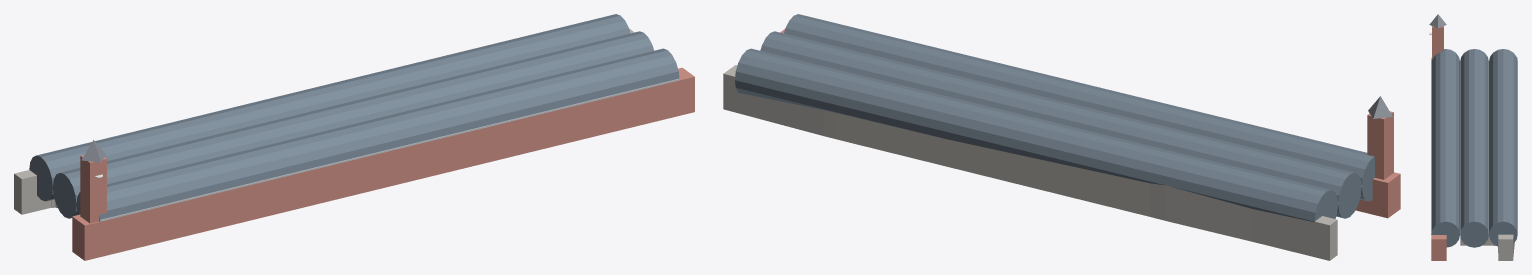
File: basel-badischer-bahnhof.glb
3 renders of one model, left to right at view 1: azimuth 30°, elevation 25°; view 2: azimuth 150°, elevation 25°; view 3: azimuth 270°, elevation 25°, orthographic. The views are drawn at different scales.
Parts seen in each view (by area): view 1: building; view 2: building; view 3: building.
Part boxes in pixels (box(x1,y1,x2,y2)): building: box(14, 14, 694, 260); building: box(723, 14, 1400, 260); building: box(1429, 14, 1517, 260).
Bounding box in the file's own units: 253 × 45 × 51.97.
